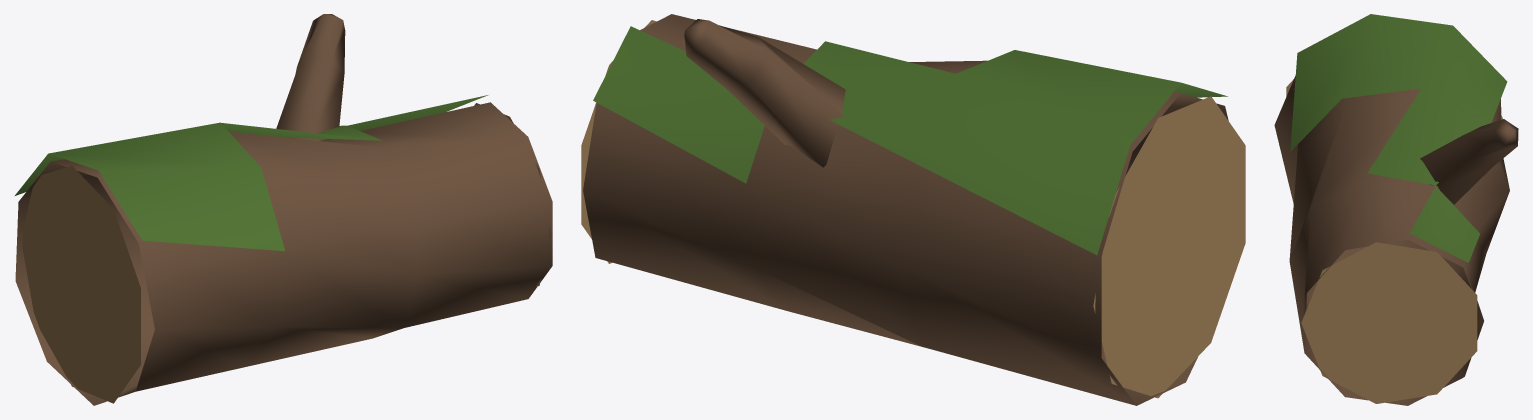
File: FallenLog.glb
The picture shows the model from 3 angles, left to right: view 1: azimuth 30°, elevation 25°; view 2: azimuth 150°, elevation 25°; view 3: azimuth 270°, elevation 25°; orthographic projection. The views are drawn at different scales.
Parts seen in each view (by area): view 1: FallenLog.bark, FallenLog.moss, FallenLog.wood; view 2: FallenLog.bark, FallenLog.moss, FallenLog.wood; view 3: FallenLog.bark, FallenLog.moss, FallenLog.wood.
Part boxes in pixels (x1=…): FallenLog.bark: x1=15, y1=14, x2=552, y2=405; FallenLog.moss: x1=15, y1=95, x2=488, y2=250; FallenLog.wood: x1=22, y1=103, x2=551, y2=403; FallenLog.bark: x1=583, y1=14, x2=1228, y2=405; FallenLog.moss: x1=593, y1=26, x2=1227, y2=255; FallenLog.wood: x1=581, y1=20, x2=1245, y2=398; FallenLog.bark: x1=1274, y1=76, x2=1518, y2=405; FallenLog.moss: x1=1290, y1=14, x2=1507, y2=262; FallenLog.wood: x1=1286, y1=79, x2=1502, y2=403.
Bounding box in the file's own units: 5.03 × 2.98 × 2.74.
